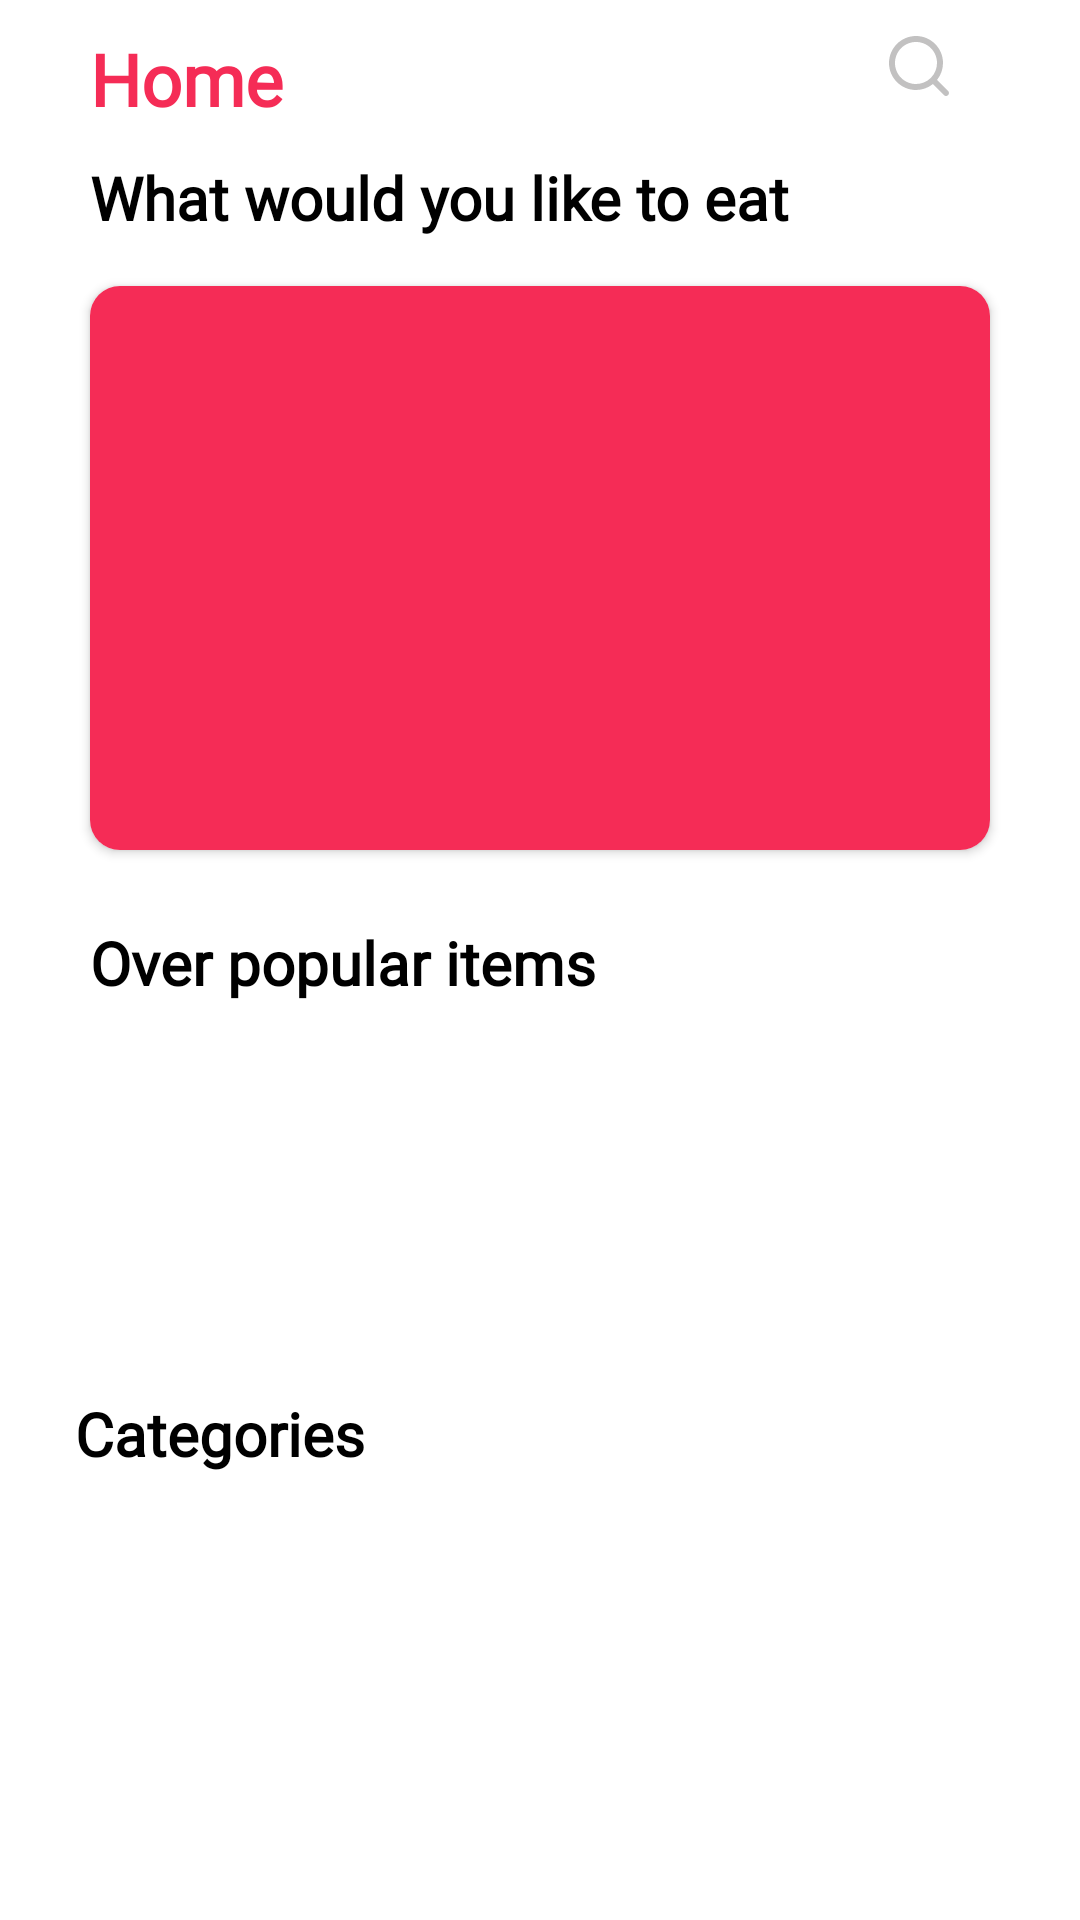

Icon click points for this 1080px×1920px phone screenshot, format [x,y]:
search: [919,66]
